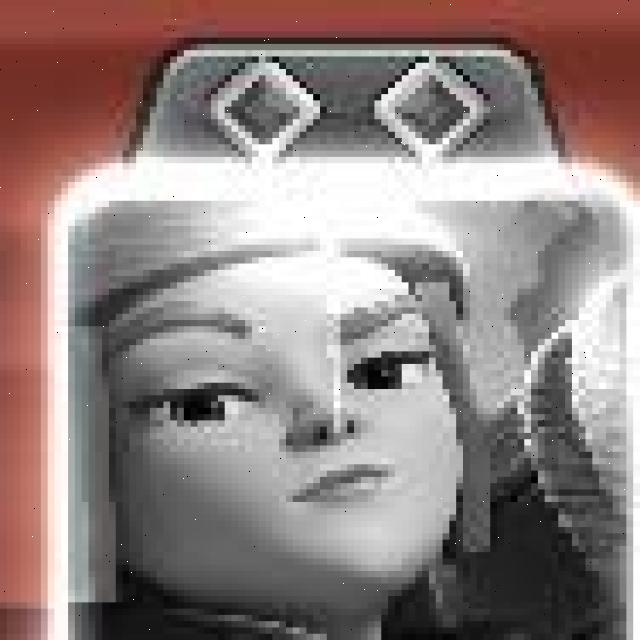Evolved_Firecracker: (49, 159, 640, 639)
